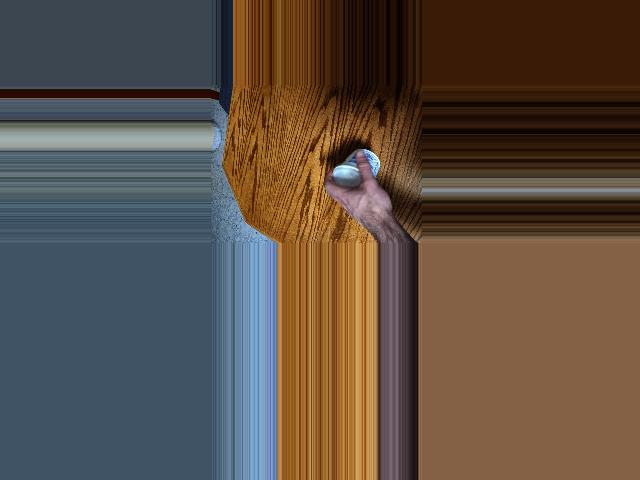cotage: (322, 147, 375, 190)
